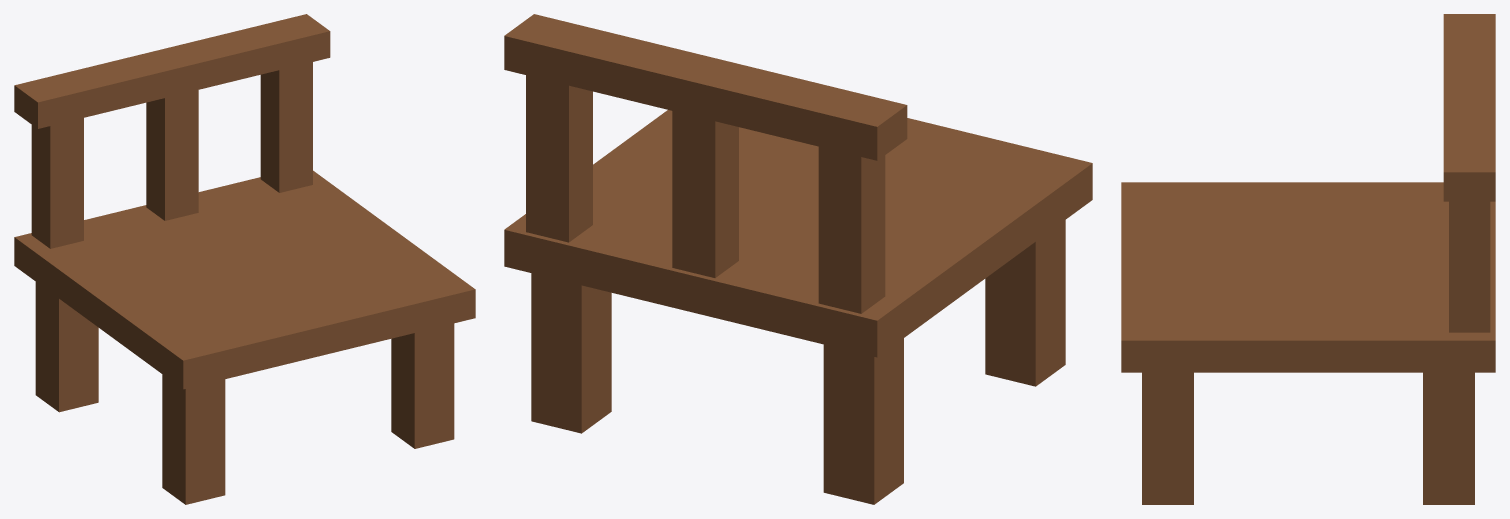
The model's file is chair.glb.
3 renders of one model, left to right at view 1: azimuth 30°, elevation 25°; view 2: azimuth 150°, elevation 25°; view 3: azimuth 270°, elevation 25°, orthographic. The views are drawn at different scales.
Visible parts, largest first — view 1: Seat, Chair leg (×3), Back slat (×3), Back rail; view 2: Seat, Chair leg (×3), Back slat (×3), Back rail; view 3: Seat, Chair leg (×2), Back rail, Back slat.
Boxes of the visible parts, x1,y1,x2,y2 form: Seat: [14, 170, 475, 389]; Chair leg (×3): [35, 282, 454, 504]; Back slat (×3): [31, 62, 312, 248]; Back rail: [14, 14, 330, 128]; Seat: [504, 110, 1092, 357]; Chair leg (×3): [531, 220, 1065, 504]; Back slat (×3): [526, 75, 885, 313]; Back rail: [504, 14, 907, 160]; Seat: [1121, 182, 1495, 372]; Chair leg (×2): [1142, 372, 1474, 504]; Back rail: [1443, 14, 1495, 201]; Back slat: [1449, 201, 1490, 332].
Size of the model in its own units: 1 by 1 by 1.
